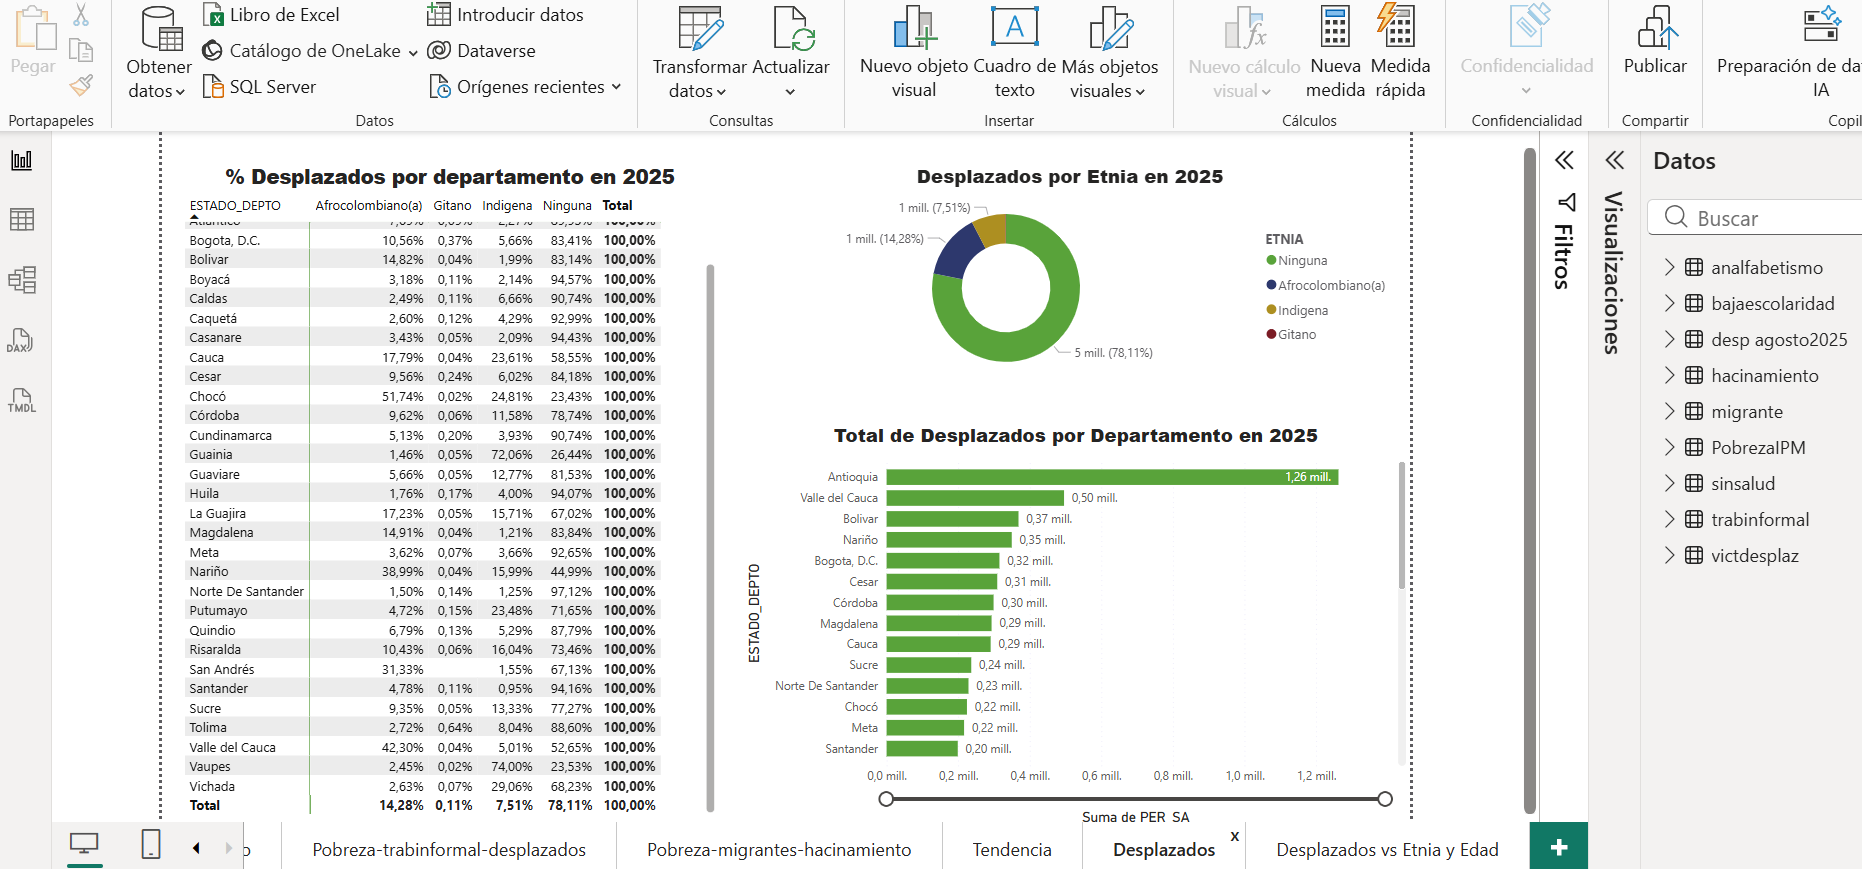

The page's visual inventory and layout, read from the dashboard file:
{"tool":"powerbi","page":{"name":"Desplazados","canvas":[1280,720],"ordinal":5},"visuals":[{"type":"pivotTable","title":"% Desplazados por departamento en 2025","fields":{"Rows":["desp agosto2025.ESTADO_DEPTO"],"Values":["Divide(Sum(desp agosto2025.PER_SA), ScopedEval(Sum(desp agosto2025.PER_SA), []))"],"Columns":["desp agosto2025.ETNIA"]},"box":[18.3,35,553.3,673.3],"z":0},{"type":"barChart","title":"Total de Desplazados por Departamento en 2025","fields":{"Category":["desp agosto2025.ESTADO_DEPTO"],"Y":["Sum(desp agosto2025.PER_SA)"]},"box":[593.3,301.7,686.7,418.3],"z":1000},{"type":"donutChart","title":"Desplazados por Etnia en 2025","fields":{"Category":["desp agosto2025.ETNIA"],"Y":["Sum(desp agosto2025.PER_SA)"]},"box":[593.3,35,675,230],"z":2000}]}

Visuals, with their boxes on the page's 1280x720 design canvas (x1, y1, x2, y2). These are canvas units, not pixel positions in the 1862x872 screenshot, which may show the page scaled, cropped or inside an application window:
"% Desplazados por departamento en 2025" pivotTable: {"left": 18, "top": 35, "right": 572, "bottom": 708}
"Total de Desplazados por Departamento en 2025" barChart: {"left": 593, "top": 302, "right": 1280, "bottom": 720}
"Desplazados por Etnia en 2025" donutChart: {"left": 593, "top": 35, "right": 1268, "bottom": 265}
